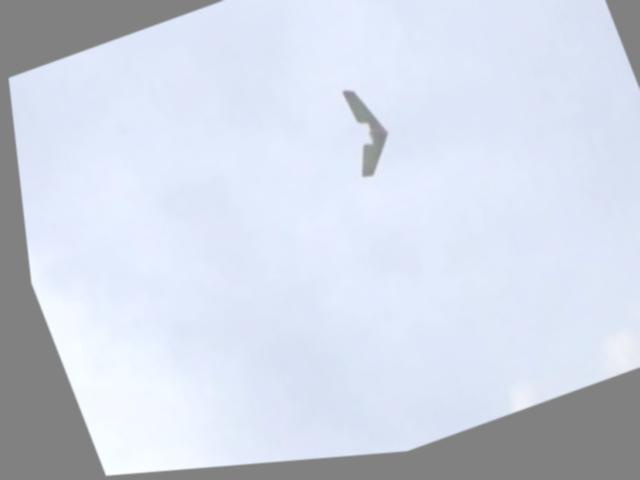flying wing: (321, 77, 399, 191)
